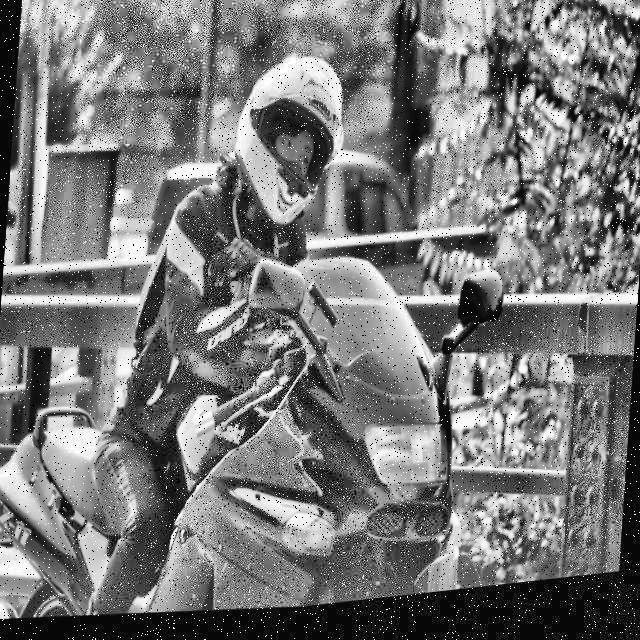Helmet: (222, 47, 352, 255)
